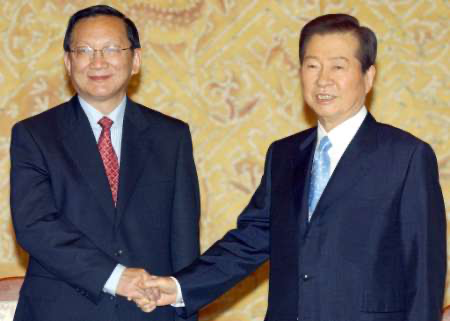Face: (299, 36, 369, 116), (66, 22, 133, 99)
